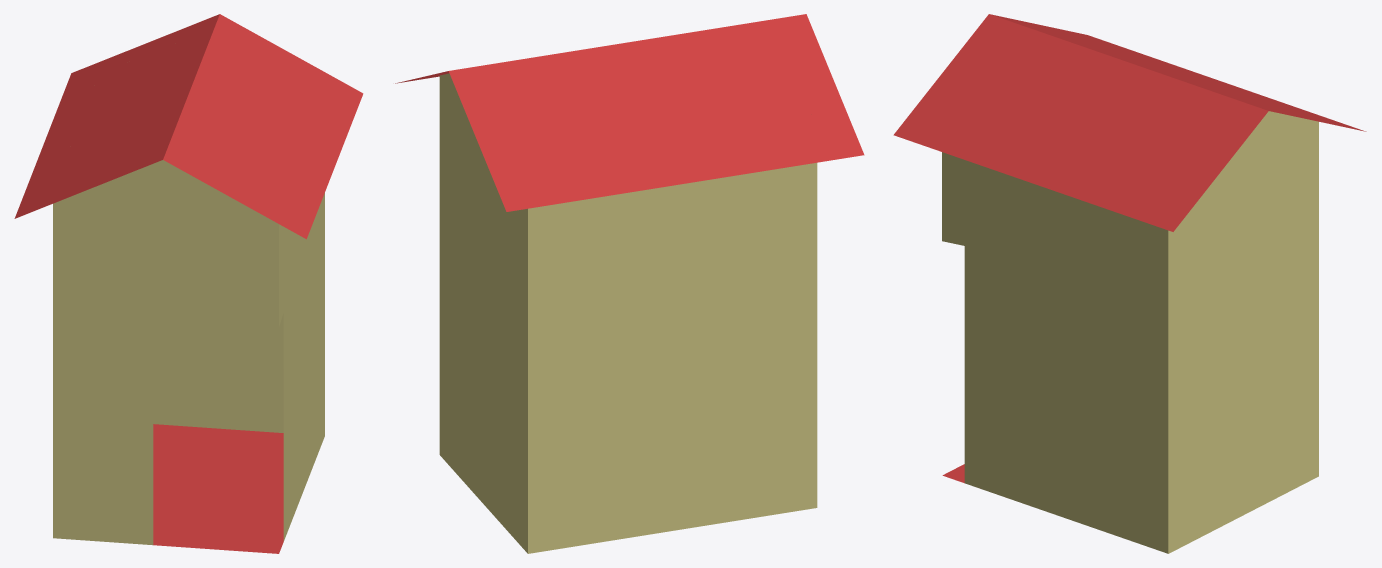
The picture shows the model from 3 angles, left to right: view 1: azimuth 30°, elevation 25°; view 2: azimuth 150°, elevation 25°; view 3: azimuth 270°, elevation 25°; orthographic projection. The views are drawn at different scales.
Parts seen in each view (by area): view 1: group_5, group_3, group_6, group_4; view 2: group_5, group_3, group_4; view 3: group_5, group_3, group_4.
Part boxes in pixels (x1=…): group_5: x1=53, y1=160, x2=324, y2=545; group_3: x1=53, y1=14, x2=363, y2=239; group_6: x1=153, y1=424, x2=283, y2=553; group_4: x1=14, y1=14, x2=219, y2=218; group_5: x1=439, y1=73, x2=817, y2=553; group_3: x1=465, y1=14, x2=861, y2=211; group_4: x1=395, y1=14, x2=863, y2=211; group_5: x1=942, y1=111, x2=1318, y2=553; group_3: x1=893, y1=14, x2=1316, y2=231; group_4: x1=989, y1=14, x2=1366, y2=131.
Bounding box in the file's own units: 13.46 × 13.68 × 13.19.
